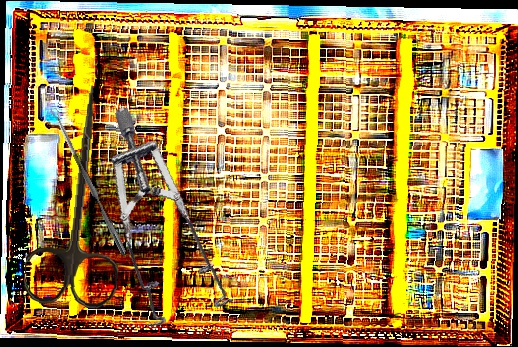Iris Scissors: (22, 80, 134, 311)
Speculum: (67, 105, 273, 345)
Surgical Spoon: (50, 106, 129, 257)
